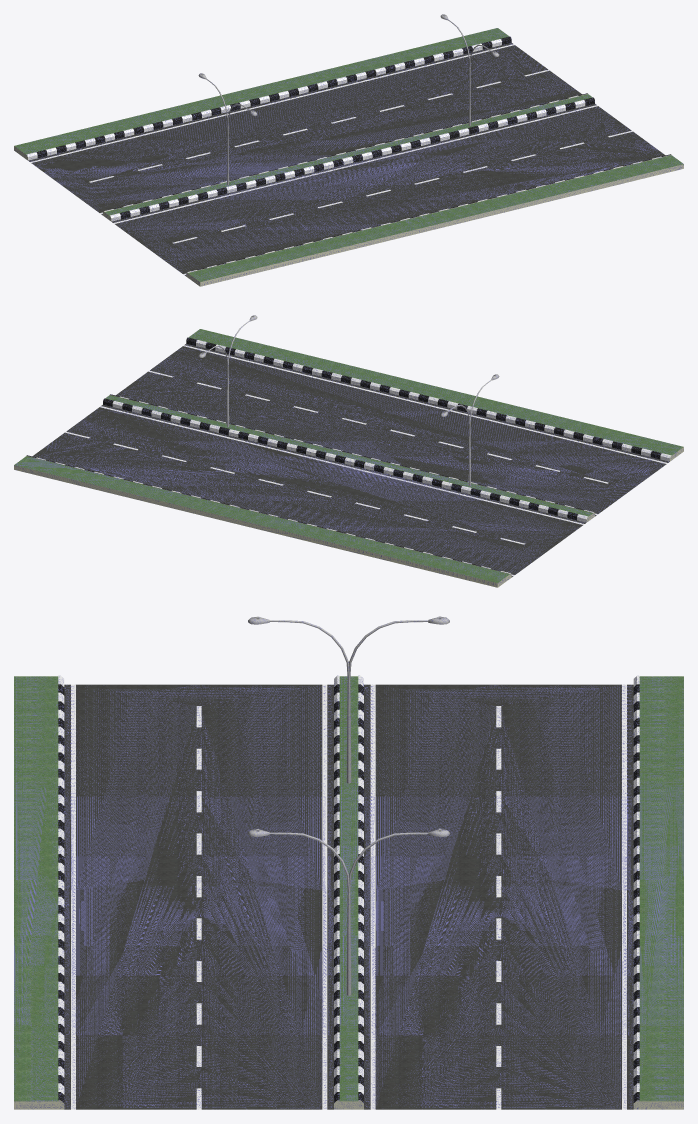
3 renders of one model, top to bottom at view 1: azimuth 30°, elevation 25°; view 2: azimuth 150°, elevation 25°; view 3: azimuth 270°, elevation 25°, orthographic. The views are drawn at different scales.
Visible parts, largest first — view 1: SketchUp (×11); view 2: SketchUp (×11); view 3: SketchUp (×13), Light_Street_Curved_18_ (×2).
Boxes of the visible parts, box(x1,y1,x2,y2) form: SketchUp (×11): box(14, 28, 683, 286); SketchUp (×11): box(14, 329, 683, 587); SketchUp (×13): box(14, 676, 683, 1109); Light_Street_Curved_18_ (×2): box(269, 620, 351, 995).
Bounding box in the file's own units: 1200 × 800 × 229.
8 materials, 2 textured.
